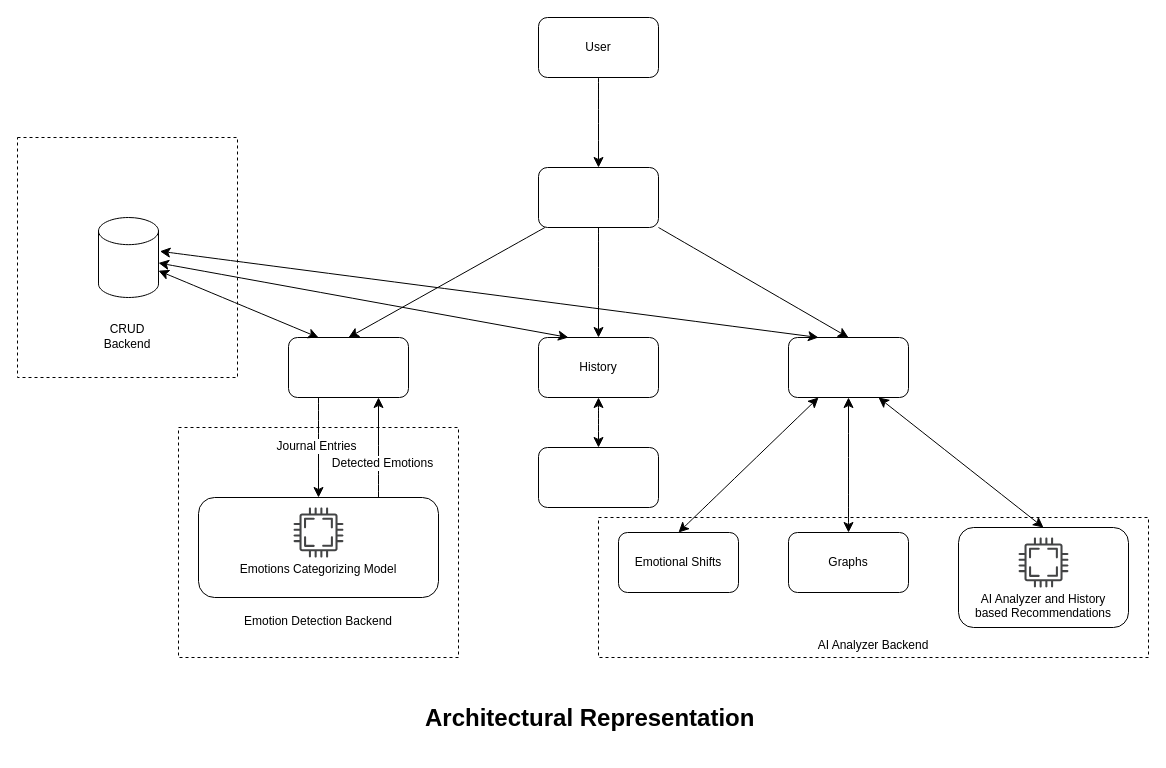
This 1166x768 diagram has some shape labels left out. The shapes that lost their labels are listed below. From the top down, each one's centre as x and y in pixels, then its label:
At [598,197]: "Unwind Frontend".
At [128,257]: "Database".
At [348,367]: "Journals".
At [848,367]: "Dashboard".
At [598,477]: "List of Previous Entries".
